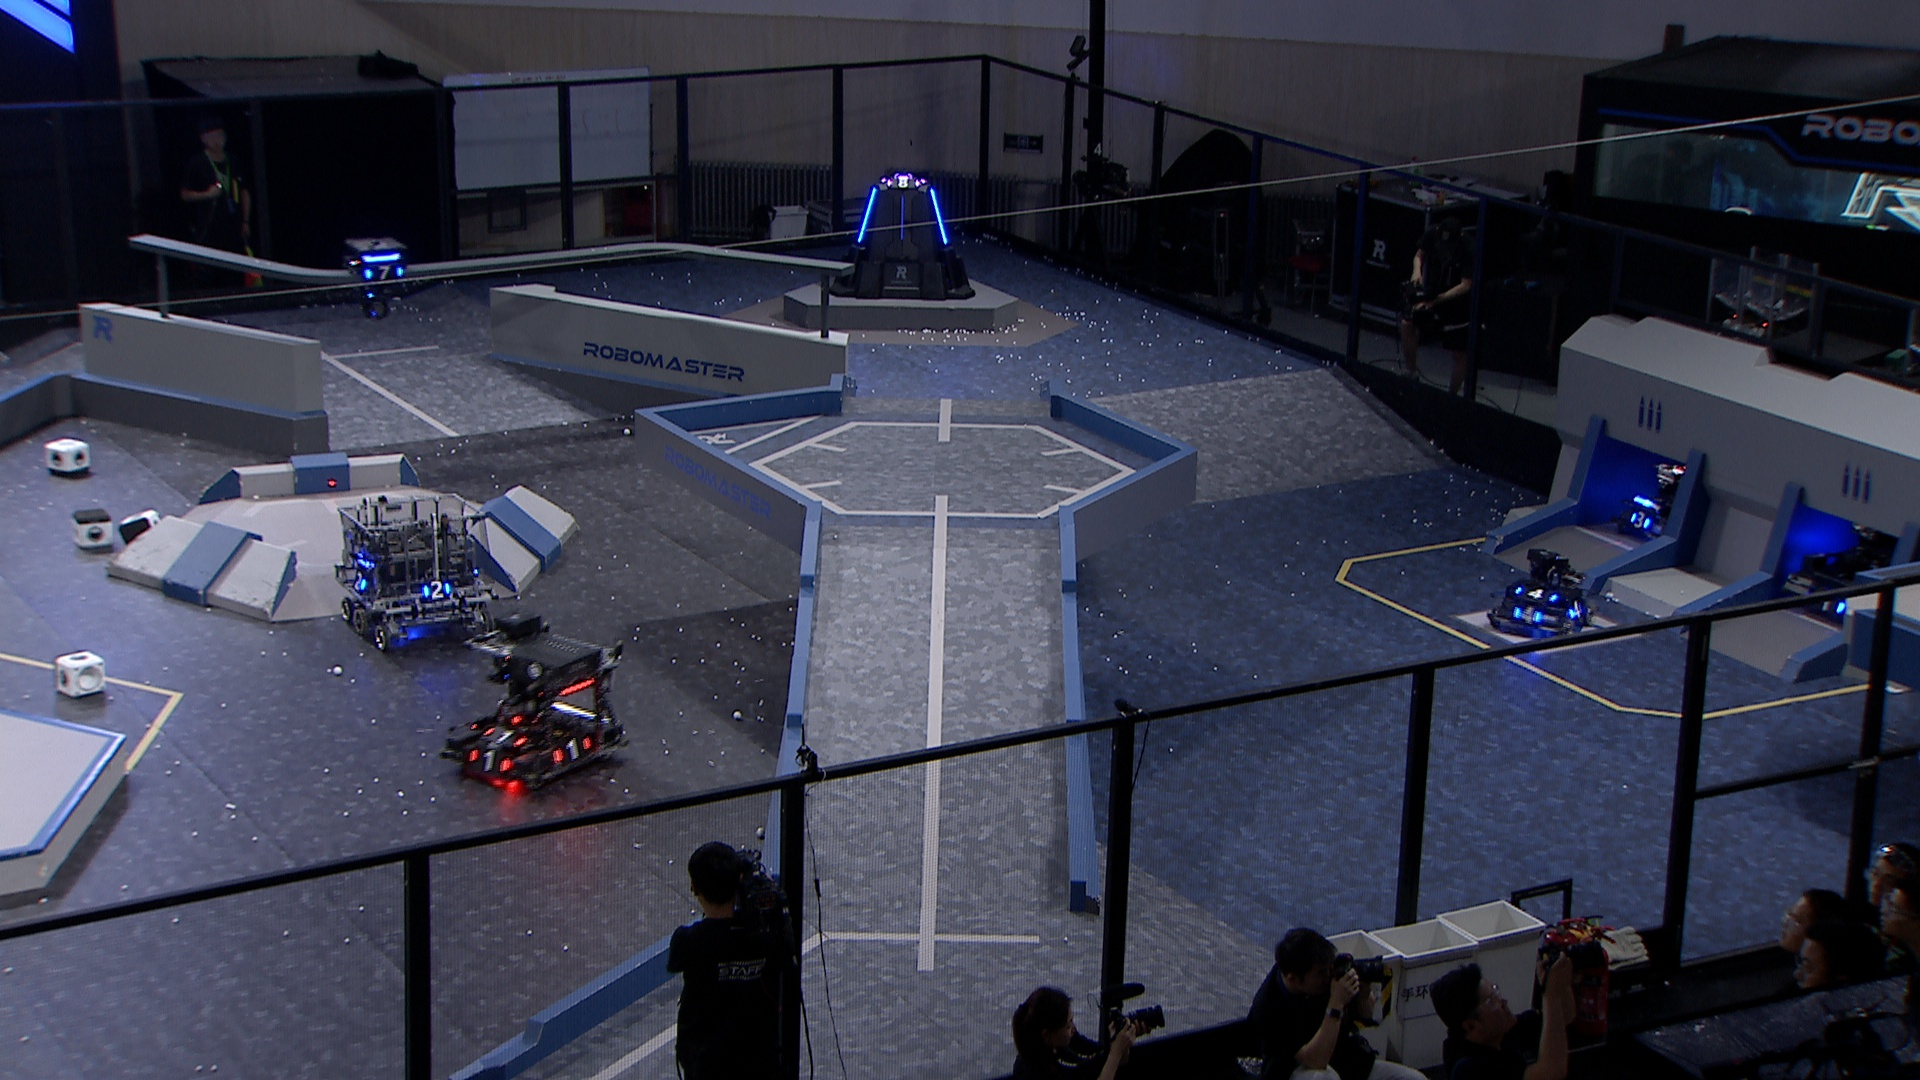armor: (549, 733, 597, 770), (926, 187, 953, 247), (852, 186, 880, 244), (480, 721, 529, 752), (465, 749, 514, 777), (1513, 579, 1557, 605), (361, 262, 407, 286), (1811, 589, 1850, 617), (419, 578, 456, 603), (1510, 605, 1547, 628), (1625, 506, 1654, 531), (345, 568, 371, 593), (1567, 595, 1589, 622)
base: (825, 167, 982, 301)
car: (438, 624, 632, 796), (332, 491, 498, 659), (1785, 505, 1920, 636), (1487, 543, 1602, 642), (1615, 454, 1718, 545)
ignore: (884, 171, 920, 191)
watcher: (340, 233, 410, 324)
